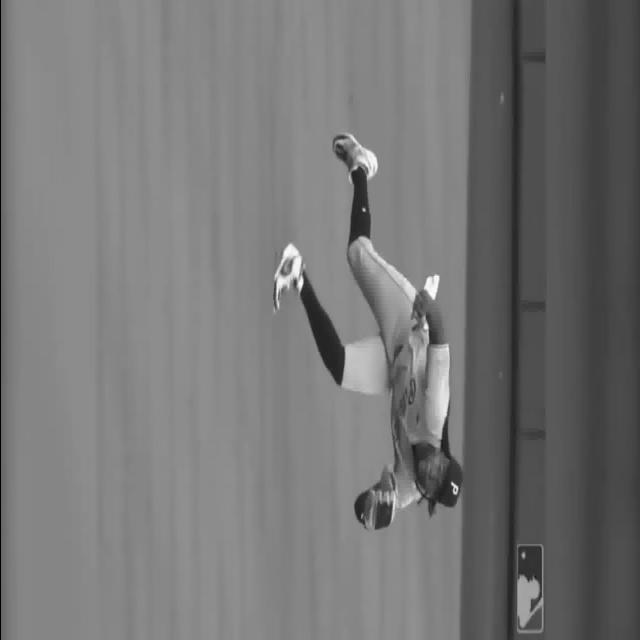baseball_glove: (358, 469, 395, 539)
shoe: (266, 238, 303, 322), (331, 134, 377, 187)
